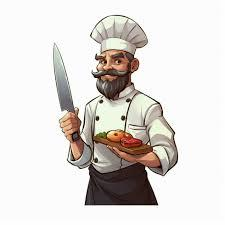Knife: (52, 41, 80, 141)
